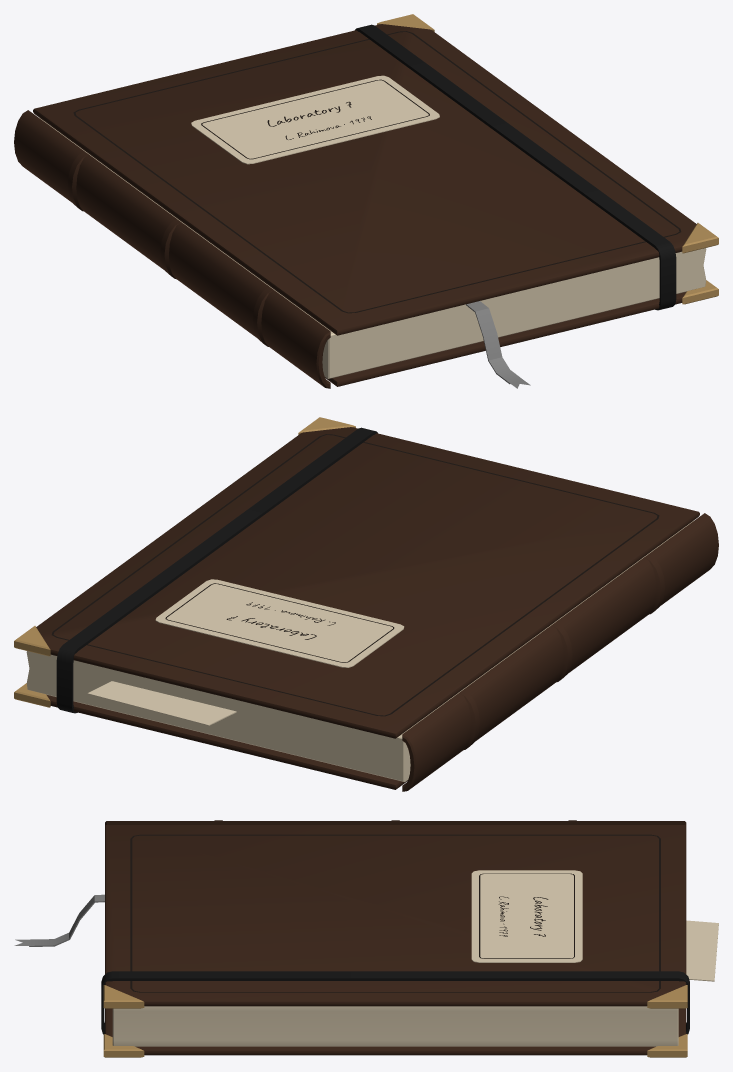
File: notebook.glb
3 renders of one model, top to bottom at view 1: azimuth 30°, elevation 25°; view 2: azimuth 150°, elevation 25°; view 3: azimuth 270°, elevation 25°, orthographic. The views are drawn at different scales.
Parts seen in each view (by area): view 1: notebook; view 2: notebook; view 3: notebook.
Boxes of the visible parts, x1,y1,x2,y2 form: notebook: [14, 14, 718, 388]; notebook: [14, 417, 718, 791]; notebook: [14, 820, 718, 1057].
Bounding box in the file's own units: 0.1764 × 0.0268 × 0.2789.
